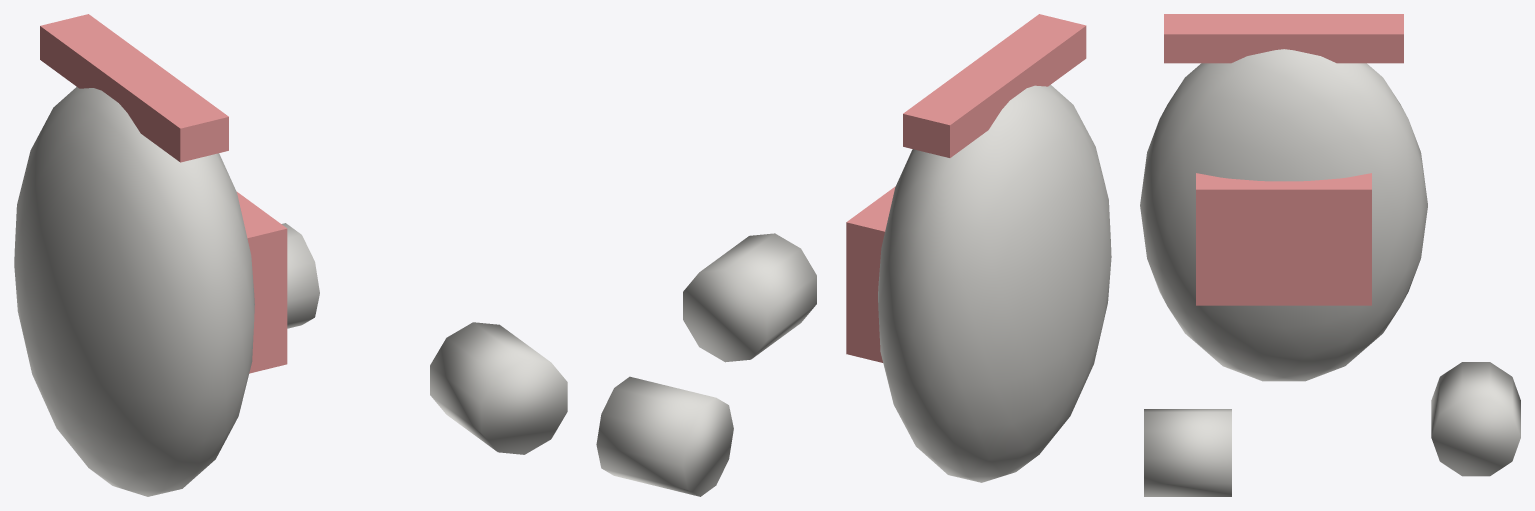
The model's file is marshmallow_bag.glb.
3 views of the same model, side by side, from view 1: azimuth 30°, elevation 25°; view 2: azimuth 150°, elevation 25°; view 3: azimuth 270°, elevation 25° (orthographic). The views are drawn at different scales.
Parts seen in each view (by area): view 1: marshmallow_bag; view 2: marshmallow_bag; view 3: marshmallow_bag.
Part boxes in pixels (box(x1,y1,x2,y2)): marshmallow_bag: box(14, 14, 567, 496); marshmallow_bag: box(596, 14, 1111, 496); marshmallow_bag: box(1140, 14, 1520, 496).
Size of the model in its own units: 0.2706 by 0.245 by 0.238.
